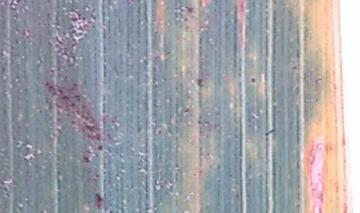tarspot: (263, 126, 277, 138), (195, 77, 204, 91), (94, 192, 104, 203), (184, 4, 194, 13), (82, 155, 91, 164), (249, 75, 257, 85), (94, 203, 103, 211), (96, 144, 104, 152), (290, 64, 297, 72), (181, 16, 190, 22), (156, 128, 162, 137), (107, 209, 114, 213)
